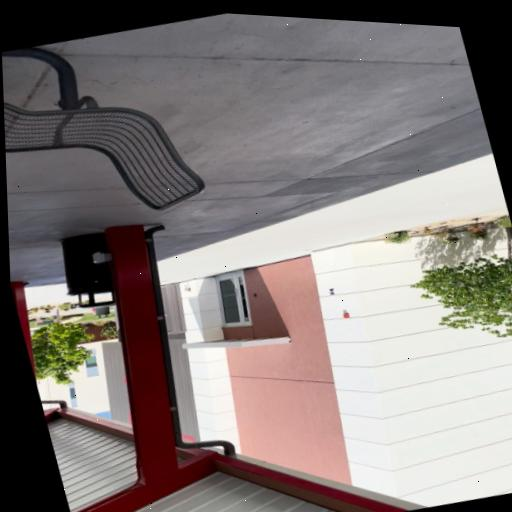target2: (328, 287, 335, 296)
